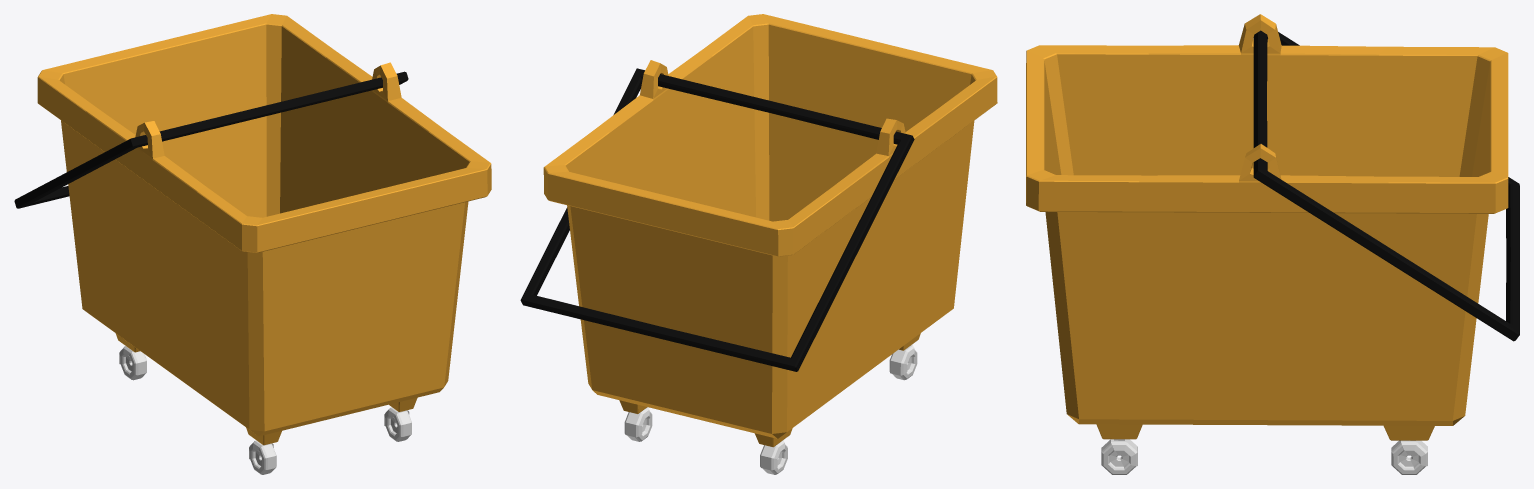
The model's file is mopbucketWORKING.fbx.
3 views of the same model, side by side, from view 1: azimuth 30°, elevation 25°; view 2: azimuth 150°, elevation 25°; view 3: azimuth 270°, elevation 25° (orthographic). The views are drawn at different scales.
Visible parts, largest first — view 1: Mop Bucket; view 2: Mop Bucket; view 3: Mop Bucket.
Boxes of the visible parts, left/top/right/bottom form: Mop Bucket: left=14, top=14, right=491, bottom=474; Mop Bucket: left=520, top=14, right=997, bottom=474; Mop Bucket: left=1026, top=14, right=1519, bottom=474.
Size of the model in its own units: 248 by 272 by 343.
